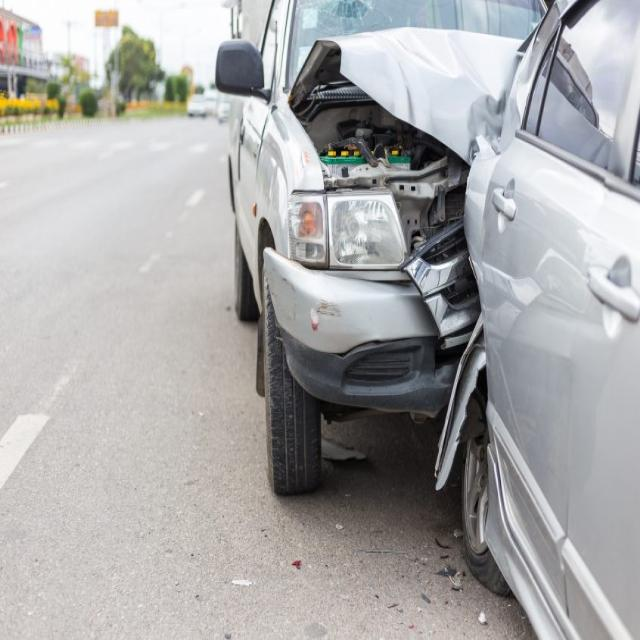Accident: (204, 0, 640, 640)
